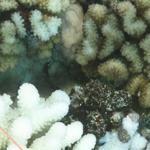alive: (3, 6, 146, 148)
